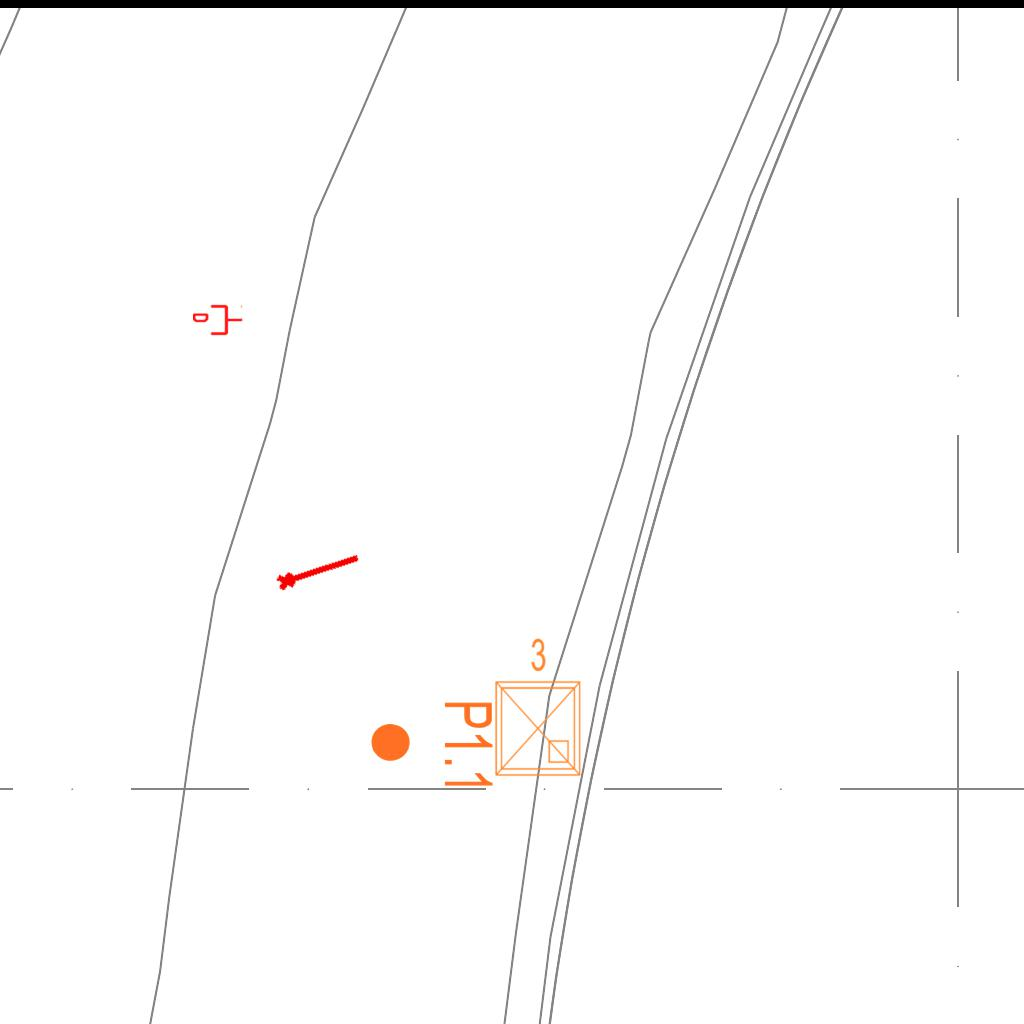ASR_Ansaugoeffnung: (272, 544, 364, 595)
Datenanschluss_einfach: (193, 303, 243, 337)
Downlight_LED_Einbauleuchten_Flur: (368, 699, 496, 792)
Einbaudownlights_LED_Konferenzraeume: (484, 633, 588, 783)
